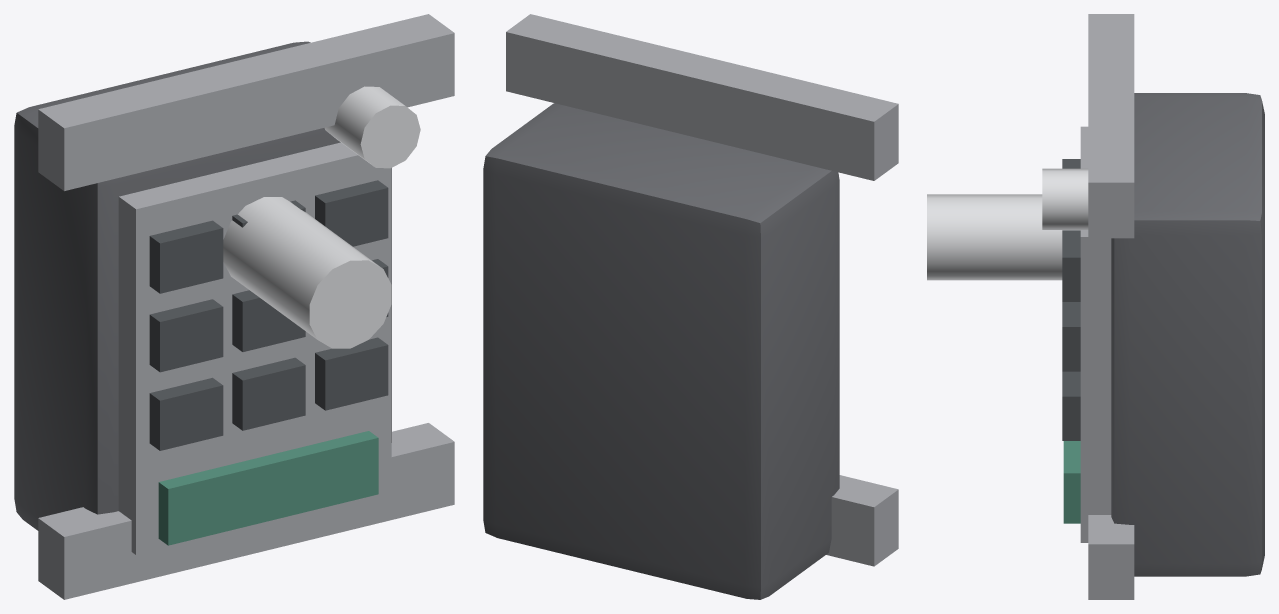
File: DD_lock_code.fbx
The picture shows the model from 3 angles, left to right: view 1: azimuth 30°, elevation 25°; view 2: azimuth 150°, elevation 25°; view 3: azimuth 270°, elevation 25°; orthographic projection. The views are drawn at different scales.
Parts seen in each view (by area): view 1: DD_lock_code; view 2: DD_lock_code; view 3: DD_lock_code.
Boxes of the visible parts, bbox=[...] form: DD_lock_code: bbox=[14, 14, 454, 599]; DD_lock_code: bbox=[483, 14, 898, 599]; DD_lock_code: bbox=[927, 14, 1264, 599].
Size of the model in its own units: 0.26 by 0.3 by 0.22.
